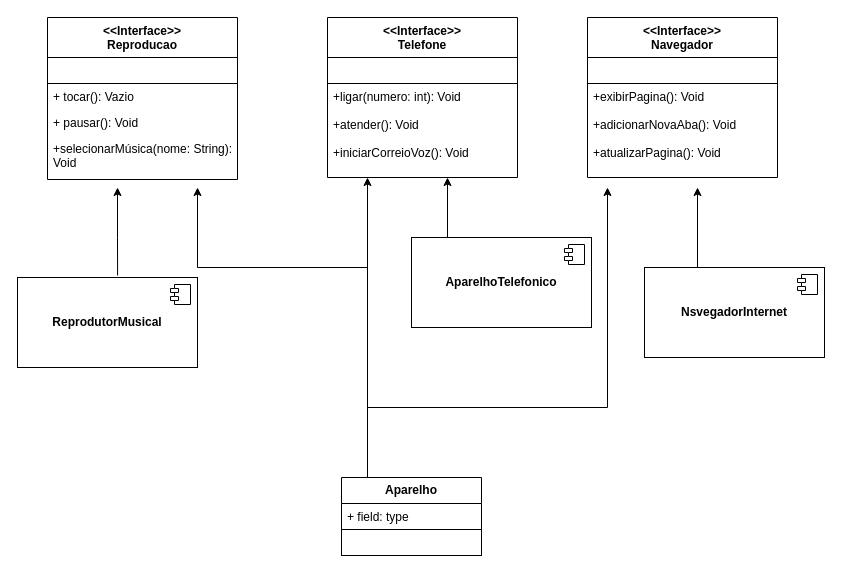
Some shapes in this 842 by 576 pixel diagram are drawn without their labels. Here are the shapes that lost their labels. From the top down, the box of each, then its label:
(46, 56, 238, 84): #nome: String
(326, 56, 518, 84): + numero: int
(586, 56, 778, 84): -nomePagina: String
(340, 528, 482, 556): + method(type): type
